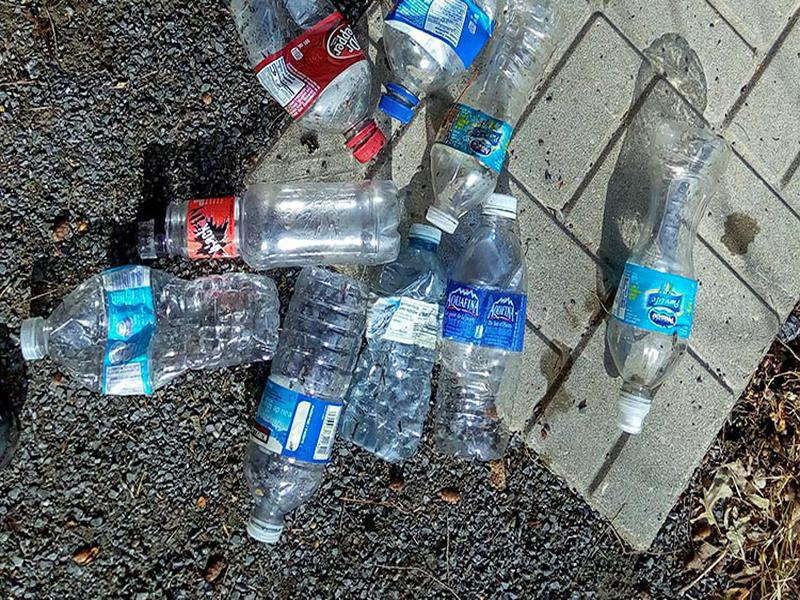bottle: (605, 124, 742, 441), (15, 253, 283, 399), (240, 266, 373, 548), (416, 2, 573, 229), (431, 191, 536, 469), (221, 2, 391, 166), (142, 175, 404, 271), (349, 222, 449, 468)
